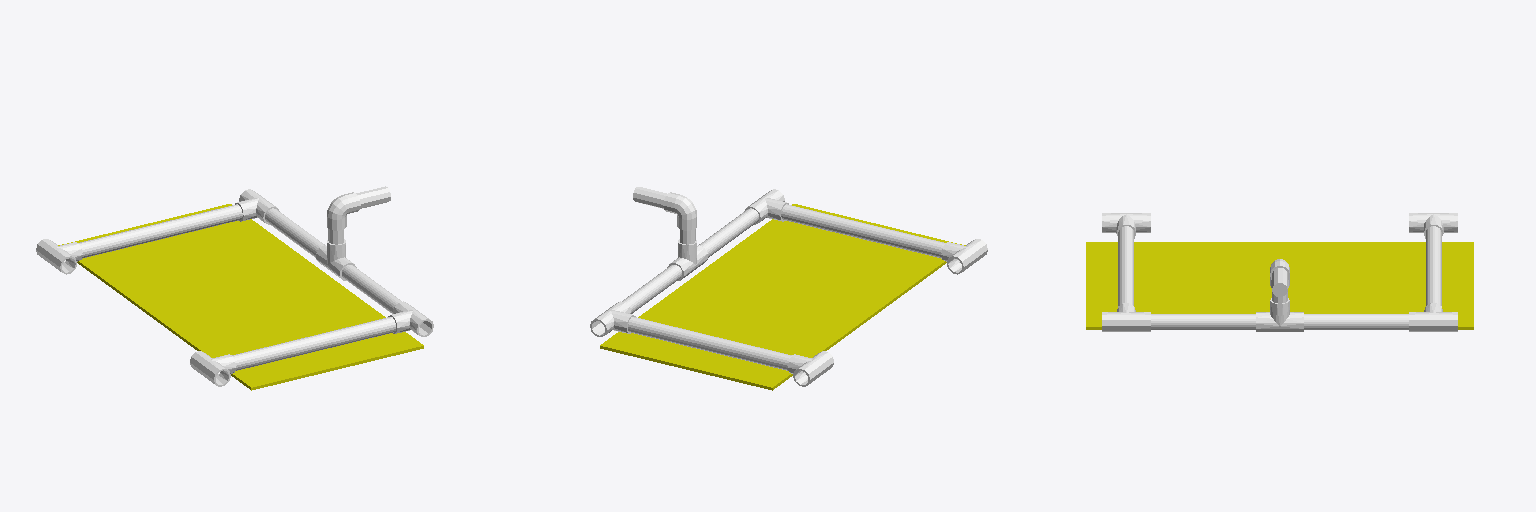
The model's file is Expose_to_sunlight_top.obj.
3 renders of one model, left to right at view 1: azimuth 30°, elevation 25°; view 2: azimuth 150°, elevation 25°; view 3: azimuth 270°, elevation 25°, orthographic.
Visible parts, largest first — view 1: Bryła13, Bryła8, Bryła2, Bryła1, Bryła9, Bryła4, Bryła5, Bryła3, Bryła11, Bryła6, Bryła7; view 2: Bryła13, Bryła2, Bryła8, Bryła9, Bryła1, Bryła5, Bryła4, Bryła7, Bryła11, Bryła6, Bryła3; view 3: Bryła13, Bryła4, Bryła5, Bryła2, Bryła8, Bryła6, Bryła3, Bryła7, Bryła1, Bryła9.
Boxes of the visible parts, <box> form: Bryła13: <box>58,204,423,390</box>; Bryła8: <box>66,204,242,260</box>; Bryła2: <box>220,317,395,372</box>; Bryła1: <box>190,351,235,386</box>; Bryła9: <box>36,239,82,274</box>; Bryła4: <box>342,265,401,313</box>; Bryła5: <box>265,208,324,257</box>; Bryła3: <box>388,301,433,336</box>; Bryła11: <box>327,192,360,230</box>; Bryła6: <box>316,239,356,280</box>; Bryła7: <box>235,189,279,224</box>; Bryła13: <box>600,204,965,390</box>; Bryła2: <box>781,204,957,259</box>; Bryła8: <box>628,317,803,372</box>; Bryła9: <box>788,351,833,386</box>; Bryła1: <box>941,239,987,274</box>; Bryła5: <box>622,265,681,313</box>; Bryła4: <box>699,208,758,257</box>; Bryła7: <box>590,301,635,336</box>; Bryła11: <box>663,192,696,230</box>; Bryła6: <box>667,239,707,280</box>; Bryła3: <box>745,189,788,224</box>; Bryła13: <box>1086,242,1473,329</box>; Bryła4: <box>1151,314,1255,329</box>; Bryła5: <box>1304,314,1408,329</box>; Bryła2: <box>1118,226,1133,305</box>; Bryła8: <box>1426,226,1441,305</box>; Bryła6: <box>1256,298,1303,331</box>; Bryła3: <box>1102,303,1150,331</box>; Bryła7: <box>1409,303,1457,331</box>; Bryła1: <box>1102,213,1150,238</box>; Bryła9: <box>1409,213,1457,238</box>.
Bounding box in the file's own units: 476 × 135 × 610.